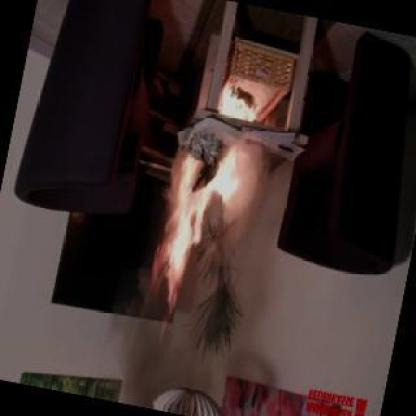Fire: (150, 131, 258, 322)
